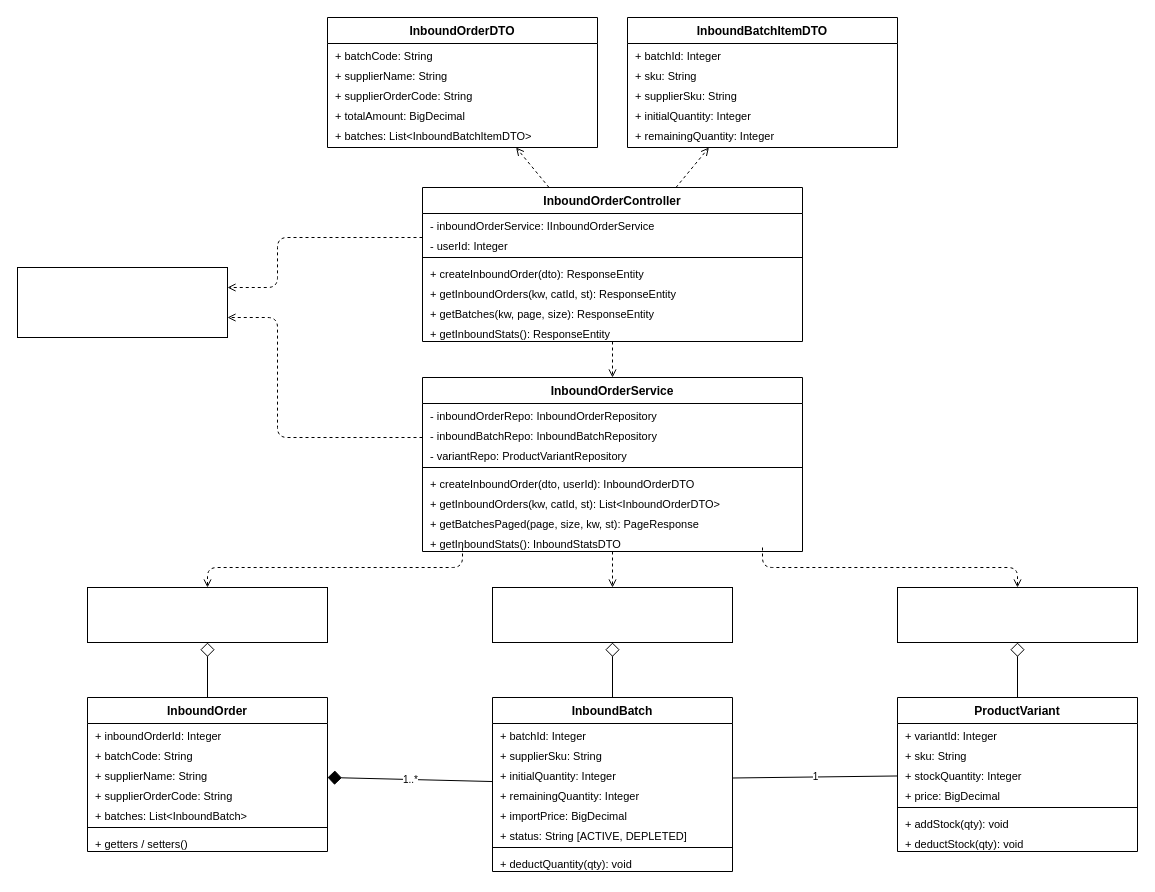
The diagram is 1155 pixels wide and 892 high, and some of its shapes have lost their labels. The centre of each missing label's shape, as x and y in pixels:
«interface» IInboundOrderService: [122,302]
«interface» InboundBatchRepository: [612,614]
«interface» InboundOrderRepository: [207,614]
«interface» ProductVariantRepository: [1017,614]
